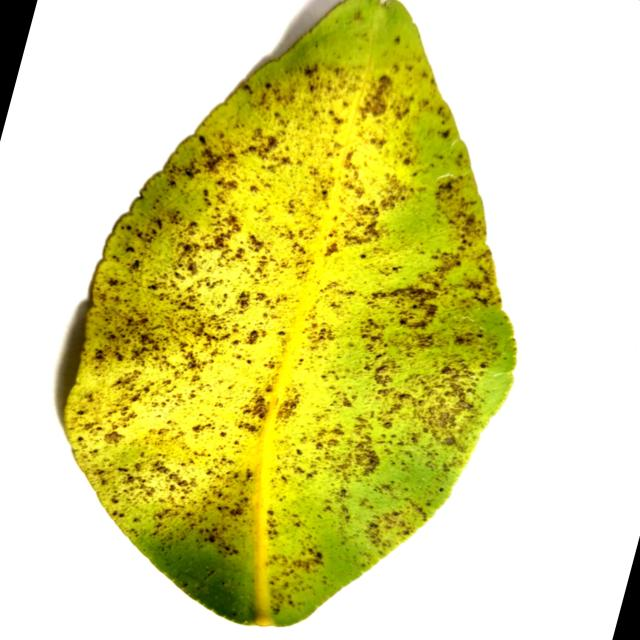melanose: (65, 0, 513, 625)
